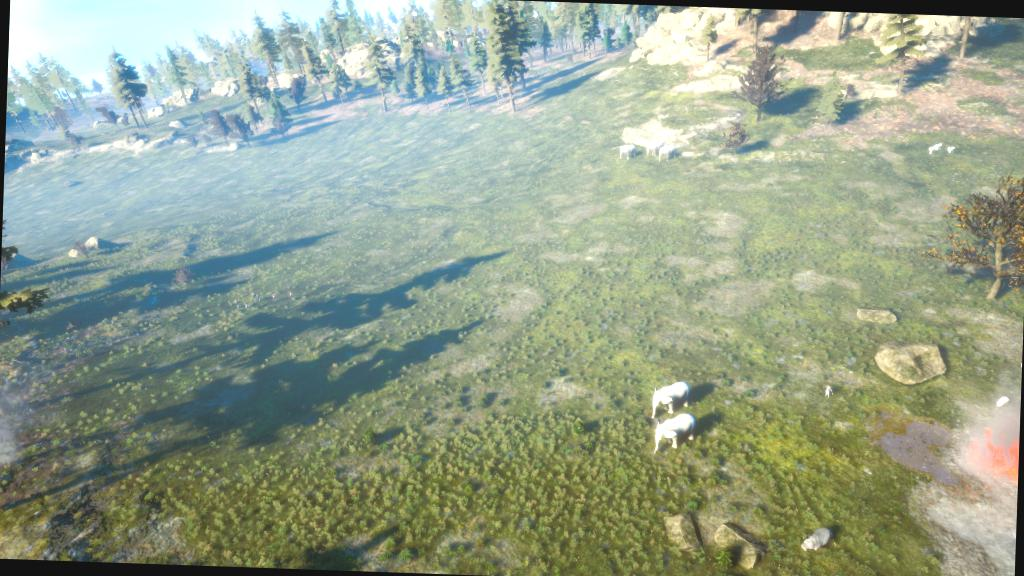elephant: (652, 412, 697, 456), (648, 379, 690, 420), (618, 142, 638, 162), (656, 144, 678, 162), (646, 140, 664, 159)
human: (821, 383, 835, 399)
pig: (994, 394, 1011, 410)
